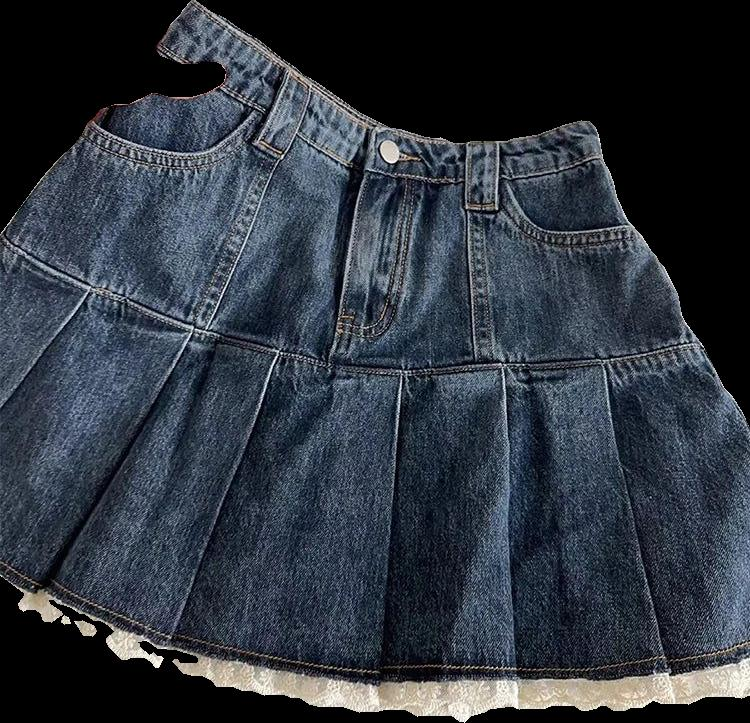Hemline: (0, 572, 749, 718)
Waistline: (0, 229, 699, 372), (158, 42, 601, 180), (192, 0, 590, 146)
